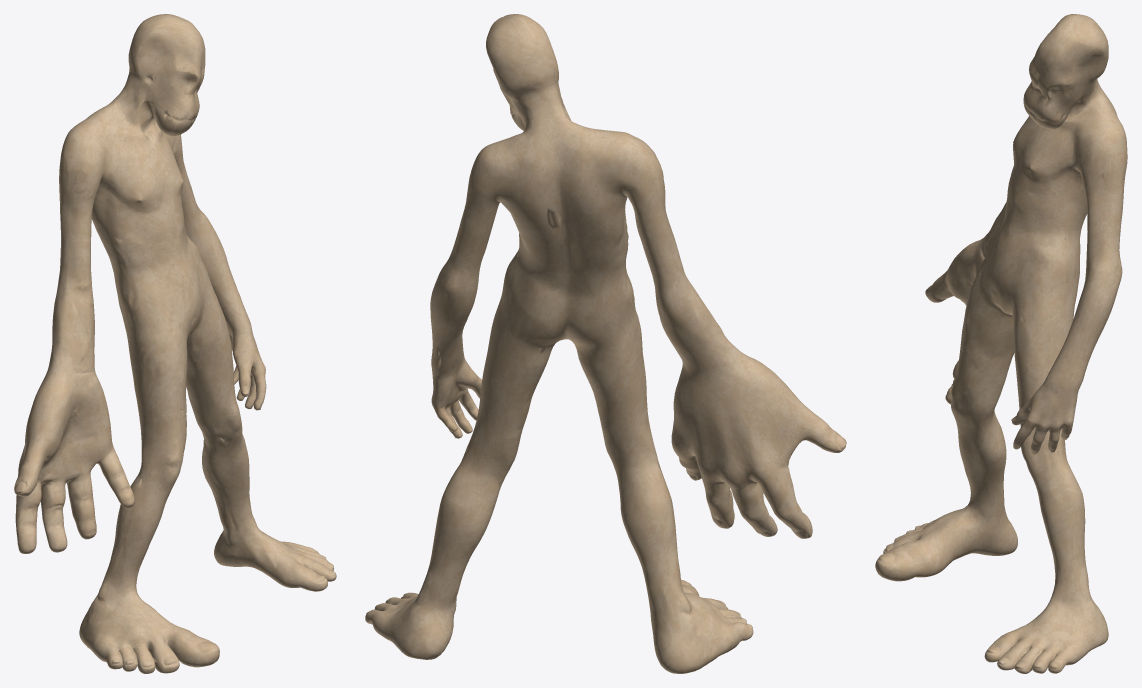
File: sculpture.glb
3 renders of one model, left to right at view 1: azimuth 30°, elevation 25°; view 2: azimuth 150°, elevation 25°; view 3: azimuth 270°, elevation 25°, orthographic. The views are drawn at different scales.
Parts seen in each view (by area): view 1: Sculpture; view 2: Sculpture; view 3: Sculpture.
Boxes of the visible parts, box(x1,y1,x2,y2) form: Sculpture: box(14, 14, 336, 673); Sculpture: box(365, 14, 846, 673); Sculpture: box(875, 14, 1127, 673).
Size of the model in its own units: 5.28 by 8 by 3.11.
1 material, 1 textured.
